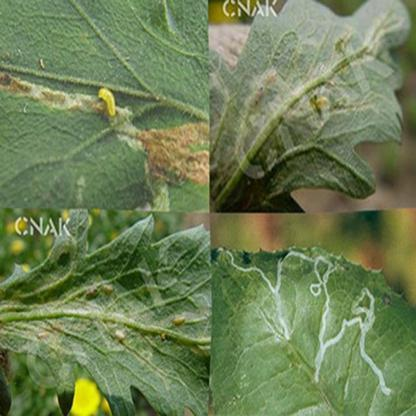whorl-maggot: (95, 80, 118, 122)
